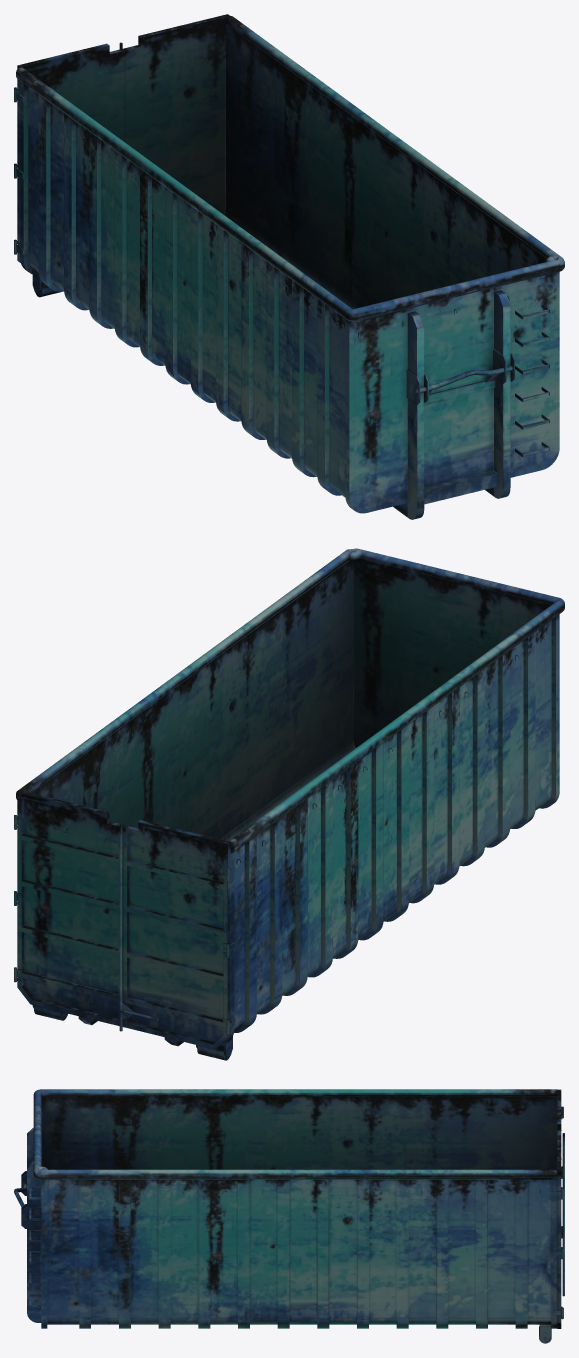
Rendered from garbage-bin-size-2.glb.
3 views of the same model, one above another, from view 1: azimuth 30°, elevation 25°; view 2: azimuth 150°, elevation 25°; view 3: azimuth 270°, elevation 25° (orthographic). The views are drawn at different scales.
Parts seen in each view (by area): view 1: Container_S1_MeshPart0, Container_S1_MeshPart1; view 2: Container_S1_MeshPart0, Container_S1_MeshPart1; view 3: Container_S1_MeshPart0, Container_S1_MeshPart1.
Part boxes in pixels (<box>): Container_S1_MeshPart0: <box>16,16,564,519</box>; Container_S1_MeshPart1: <box>14,14,229,297</box>; Container_S1_MeshPart0: <box>16,548,564,1046</box>; Container_S1_MeshPart1: <box>14,784,342,1060</box>; Container_S1_MeshPart0: <box>14,1089,564,1328</box>; Container_S1_MeshPart1: <box>381,1089,563,1343</box>.
Bounding box in the file's own units: 1.47 × 1.46 × 4.1.
Materials: 2 (2 with a texture image).
